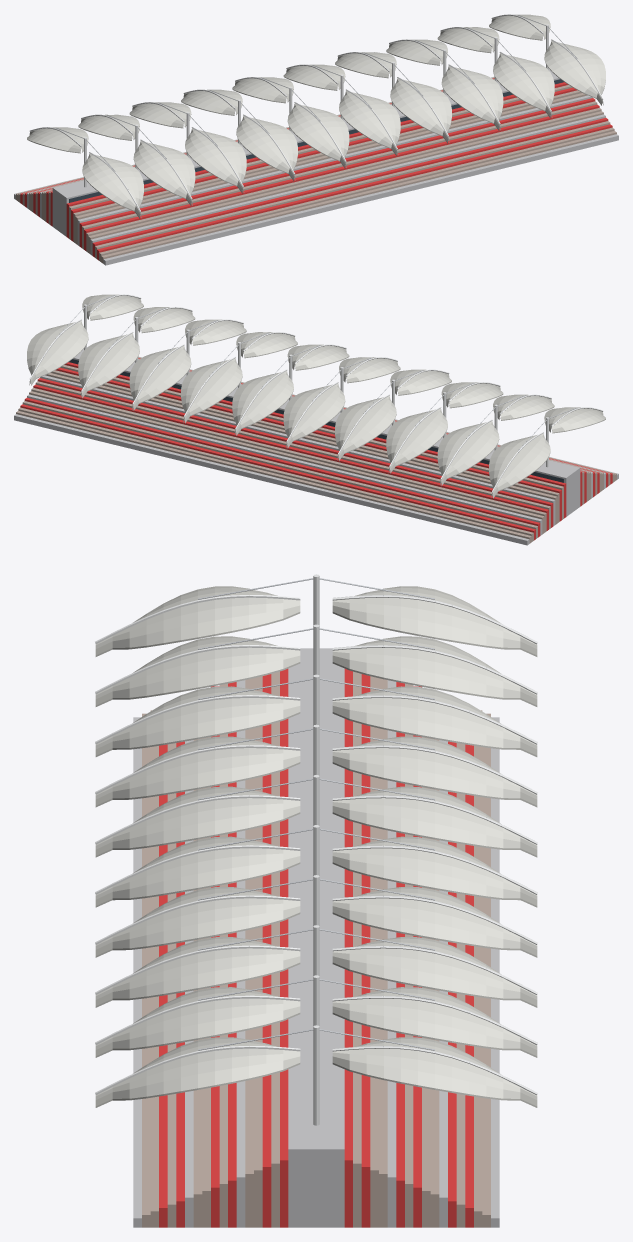
File: sepang_grandstand.glb
3 renders of one model, top to bottom at view 1: azimuth 30°, elevation 25°; view 2: azimuth 150°, elevation 25°; view 3: azimuth 270°, elevation 25°, orthographic. The views are drawn at different scales.
Parts seen in each view (by area): view 1: stand, canopy, masts; view 2: stand, canopy, masts; view 3: canopy, stand, masts.
Boxes of the visible parts, x1=… form: stand: x1=14, y1=69, x2=618, y2=265; canopy: x1=27, y1=14, x2=605, y2=218; masts: x1=29, y1=14, x2=602, y2=212; stand: x1=14, y1=349, x2=618, y2=545; canopy: x1=27, y1=294, x2=605, y2=498; masts: x1=30, y1=294, x2=603, y2=492; canopy: x1=95, y1=586, x2=537, y2=1107; stand: x1=133, y1=648, x2=499, y2=1227; masts: x1=95, y1=574, x2=537, y2=1125.
Size of the model in its own units: 220 by 36 by 82.27.
